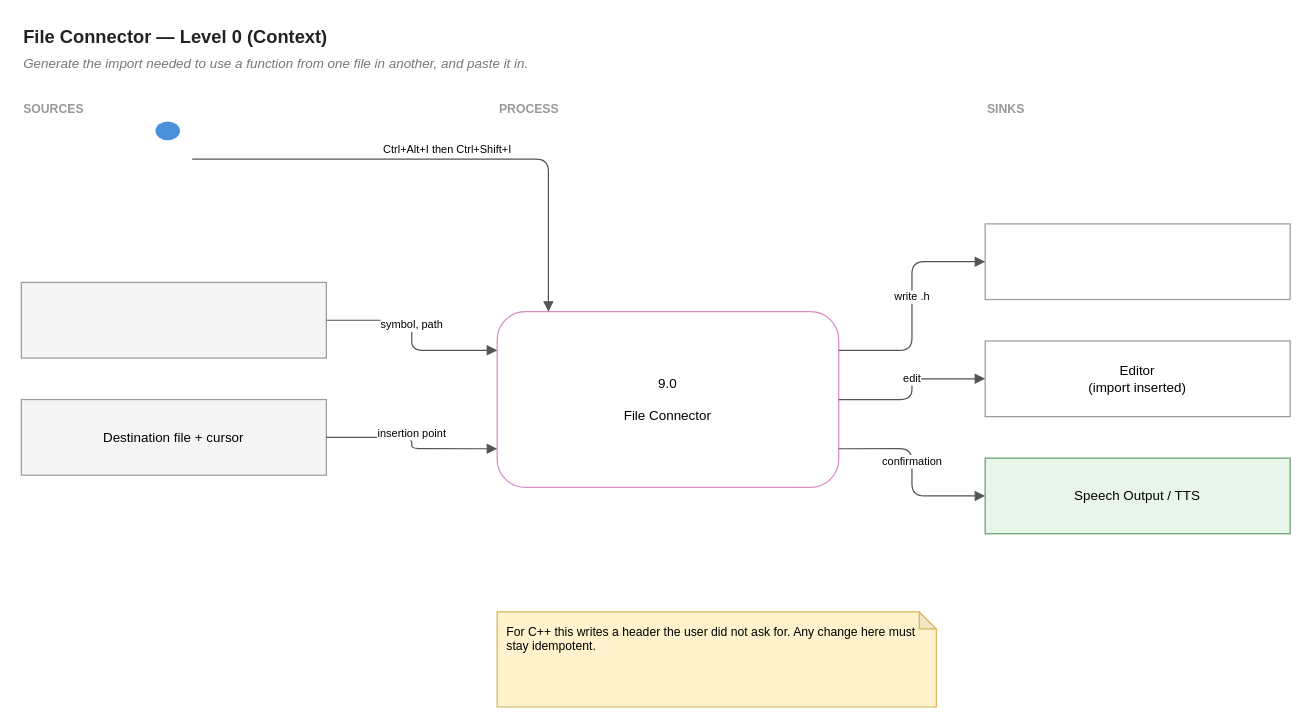
This 1312x728 diagram has some shape labels left out. Each missing label, with the centre of its shape:
"File system (header generated)" goes at (x=1137, y=261).
"Source file + cursor (function to export)" goes at (x=173, y=319).
"Users (BVI programmer)" goes at (x=167, y=158).
